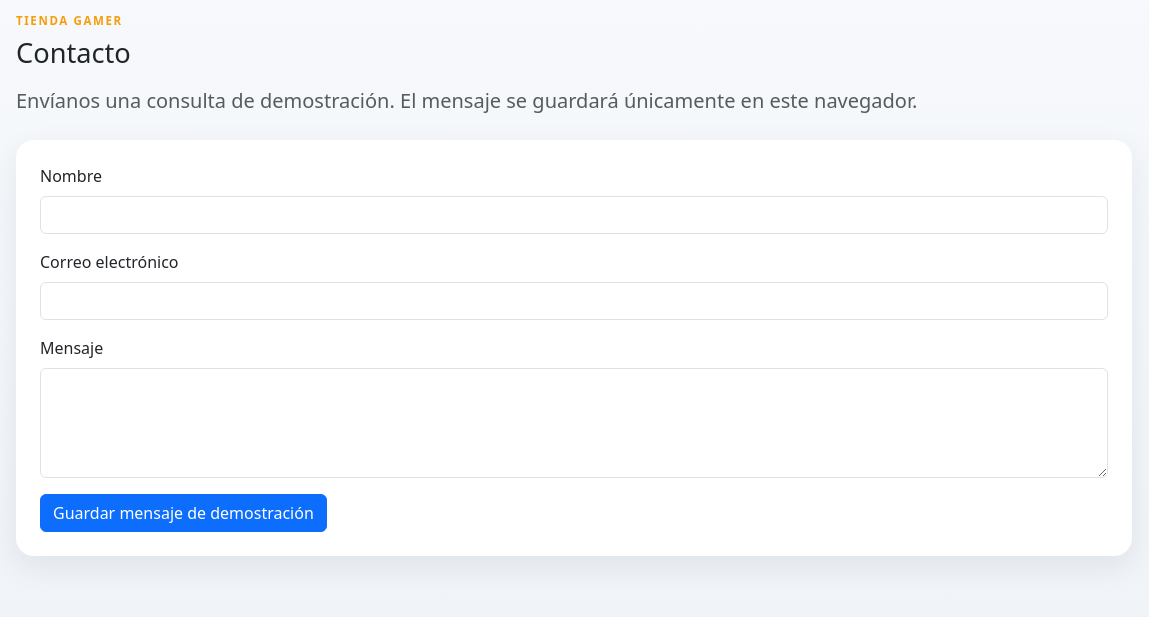
Catálogo e información de la tienda › guarda mensajes enviados desde el formulario de contacto
This screenshot has width=1149, height=617.
Type "Luis Demo" into the field labelled "Nombre" at x=574, y=215, box [40,196,1108,234]
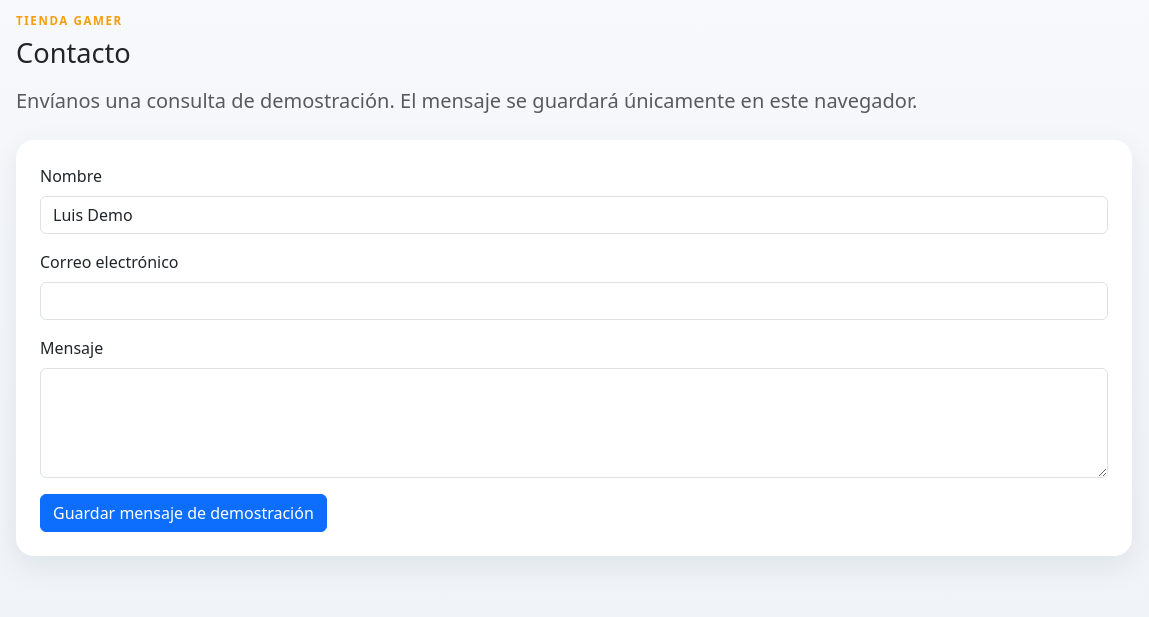
Type "luis@example.com" into the field labelled "Correo electrónico" at x=574, y=301, box [40,282,1108,320]
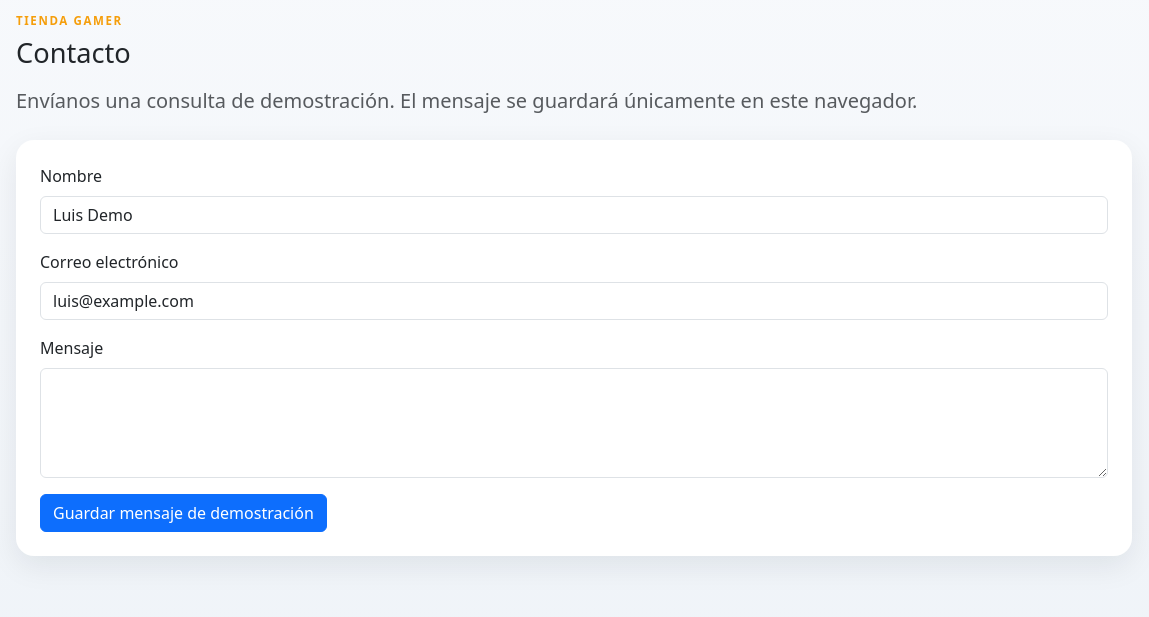
Type "Consulta de prueba" into the text box labelled "Mensaje" at x=574, y=423, box [40,368,1108,478]
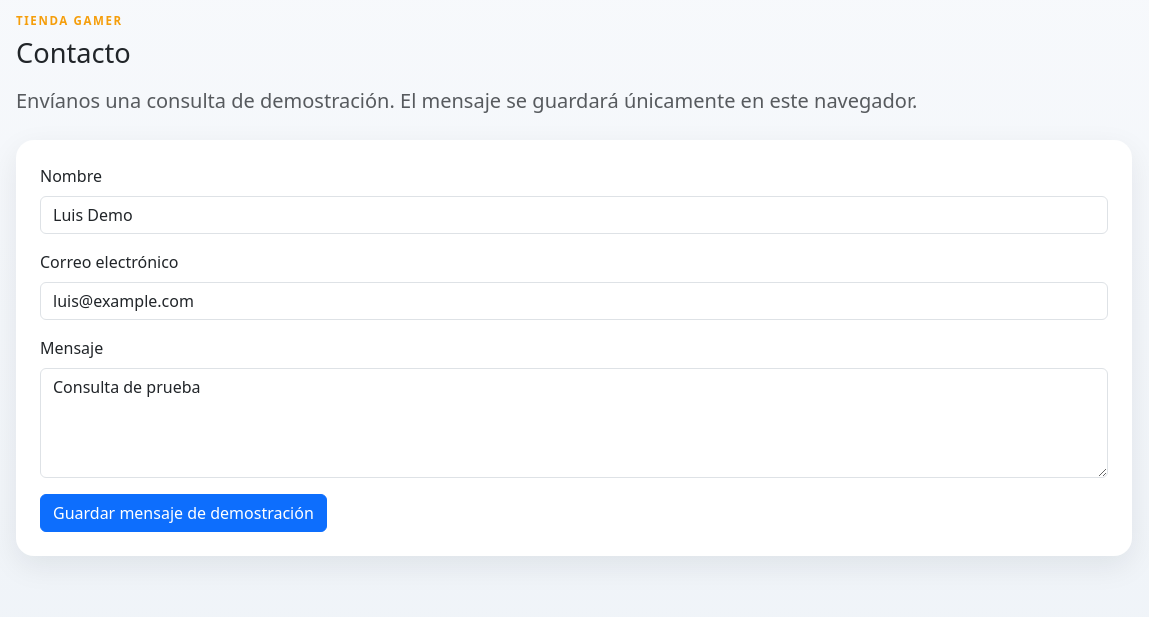
Click the button "Guardar mensaje de demostración" at x=183, y=513, box [40,494,327,532]
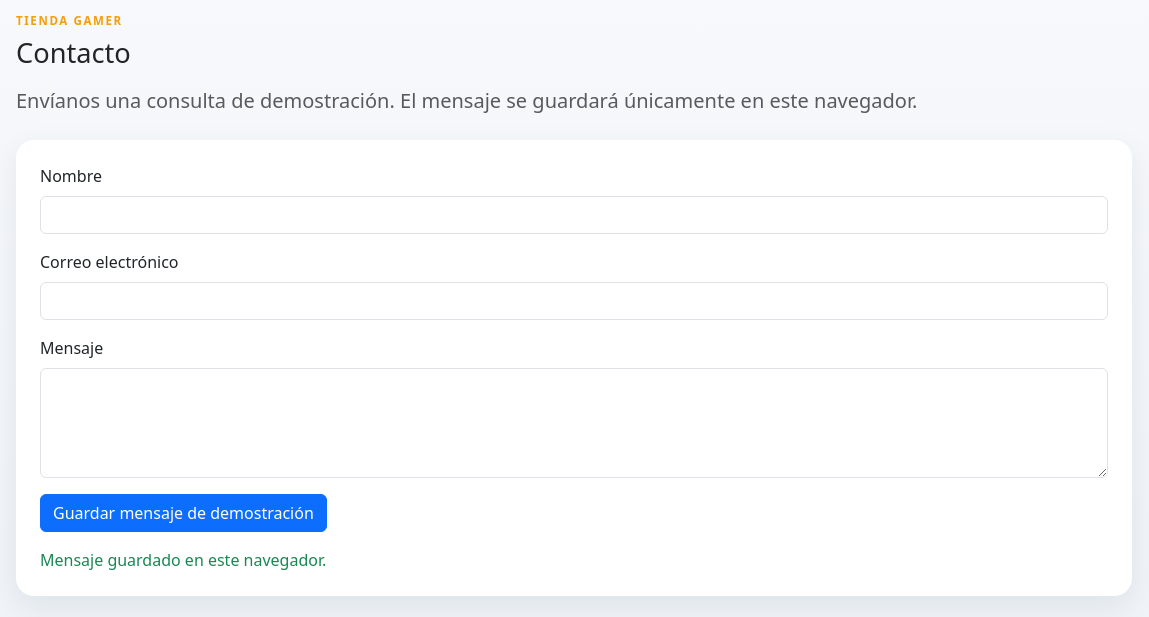
Check: the message shows "guardado", box [40,549,326,571]
